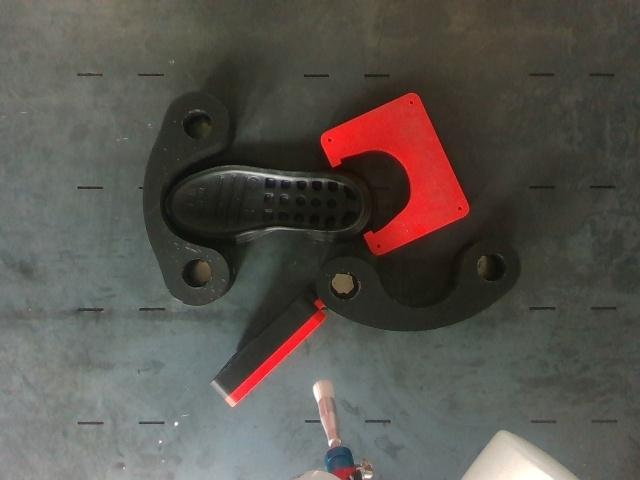shoes: (166, 167, 362, 240)
